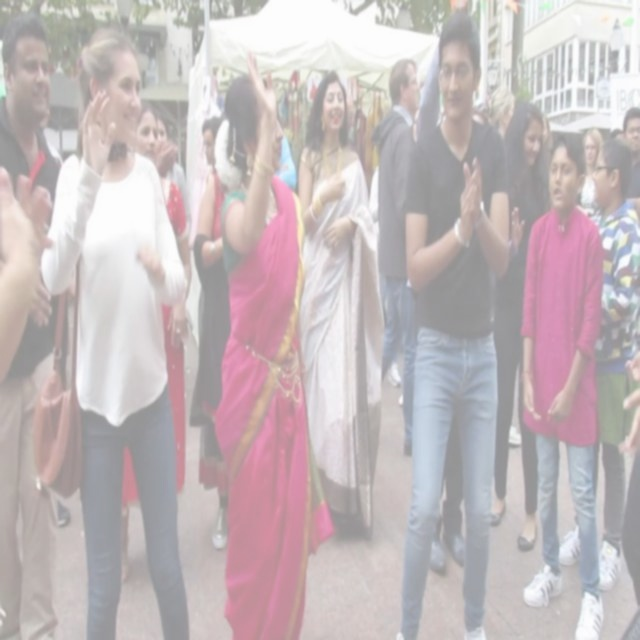pessoa: (39, 25, 193, 639), (388, 8, 510, 639), (210, 45, 334, 639), (292, 66, 388, 544), (517, 128, 605, 639), (0, 10, 68, 640), (556, 134, 640, 594), (115, 102, 193, 588), (426, 96, 492, 578), (489, 100, 551, 552), (188, 103, 234, 555), (376, 57, 422, 456), (200, 117, 244, 450), (0, 170, 55, 390), (368, 119, 402, 386), (618, 334, 640, 639), (274, 72, 314, 208), (154, 114, 191, 245), (413, 48, 442, 143), (351, 84, 382, 162), (578, 128, 604, 218), (622, 104, 640, 216), (488, 84, 518, 142), (540, 112, 554, 175), (207, 72, 227, 112), (396, 386, 406, 416), (614, 125, 626, 142)
